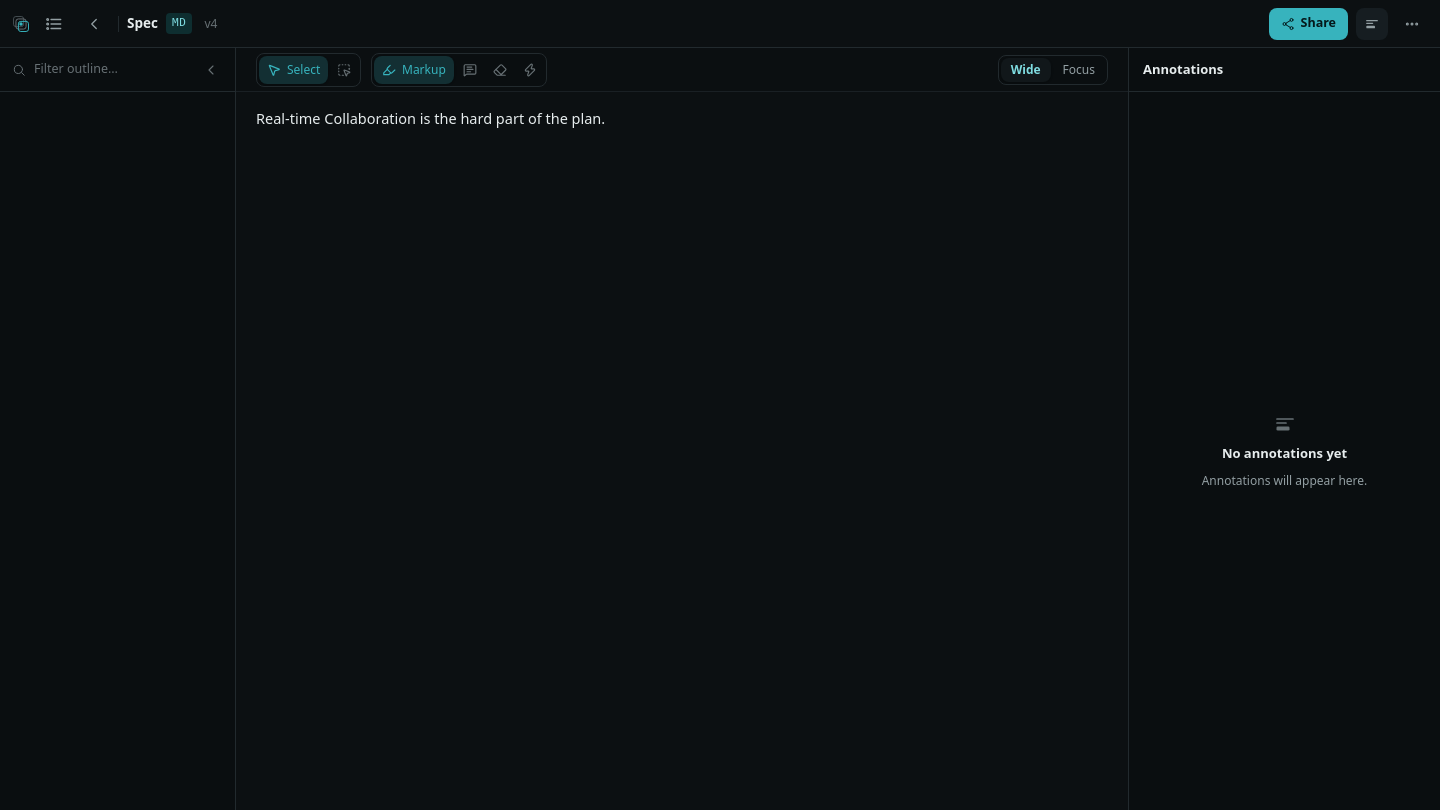
Scenario: Markup tool routing S-006 (C-009) › AS-021: Comment tool active → selecting opens the comment composer directly (no 5-type popover)
The width and height of the screenshot is (1440, 810).
Expected: the element with test id "markdown-view" is shown, [256,108,605,128]
Expected: the element with test id "annotations-rail" is shown, [1129,48,1439,489]
Click the button named "Comment" at (470, 70), box [456,56,484,84]
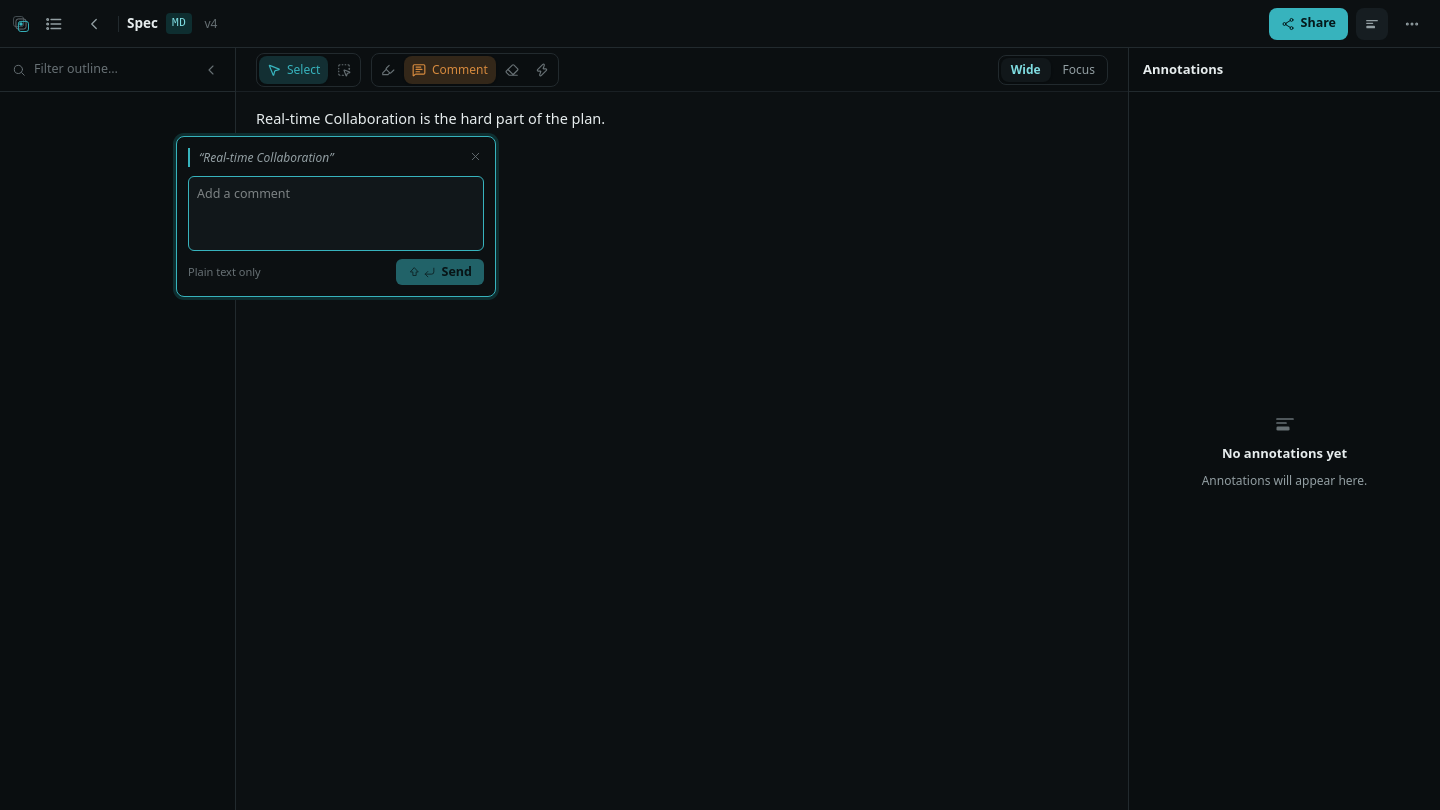
Result: the element with test id "inline-composer-popover" is shown at [176,136,496,297]
